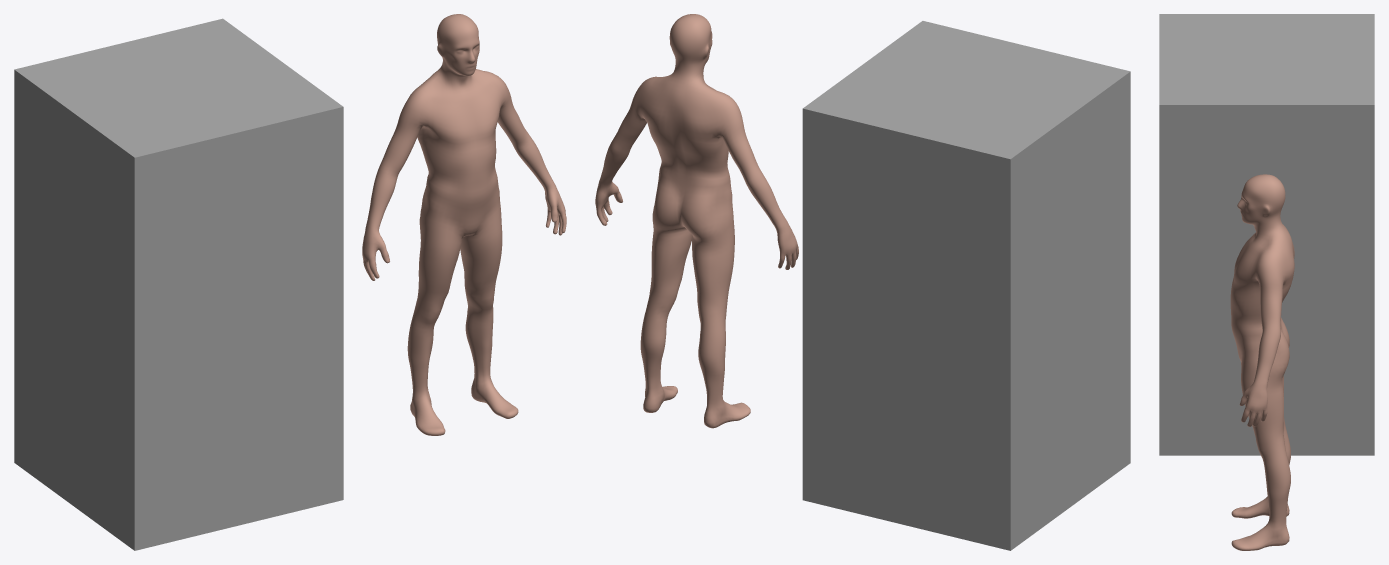
Rendered from References.fbx.
3 renders of one model, left to right at view 1: azimuth 30°, elevation 25°; view 2: azimuth 150°, elevation 25°; view 3: azimuth 270°, elevation 25°, orthographic. The views are drawn at different scales.
Visible parts, largest first — view 1: pCube2, Bootie_Cheeks_McGee; view 2: pCube2, Bootie_Cheeks_McGee; view 3: pCube2, Bootie_Cheeks_McGee.
Part boxes in pixels (x1,y1,x2,y2): pCube2: [14, 18, 343, 550]; Bootie_Cheeks_McGee: [362, 14, 566, 435]; pCube2: [802, 21, 1130, 550]; Bootie_Cheeks_McGee: [595, 14, 798, 428]; pCube2: [1159, 14, 1374, 455]; Bootie_Cheeks_McGee: [1230, 174, 1294, 550].
Size of the model in its own units: 2.31 by 1.83 by 1.
